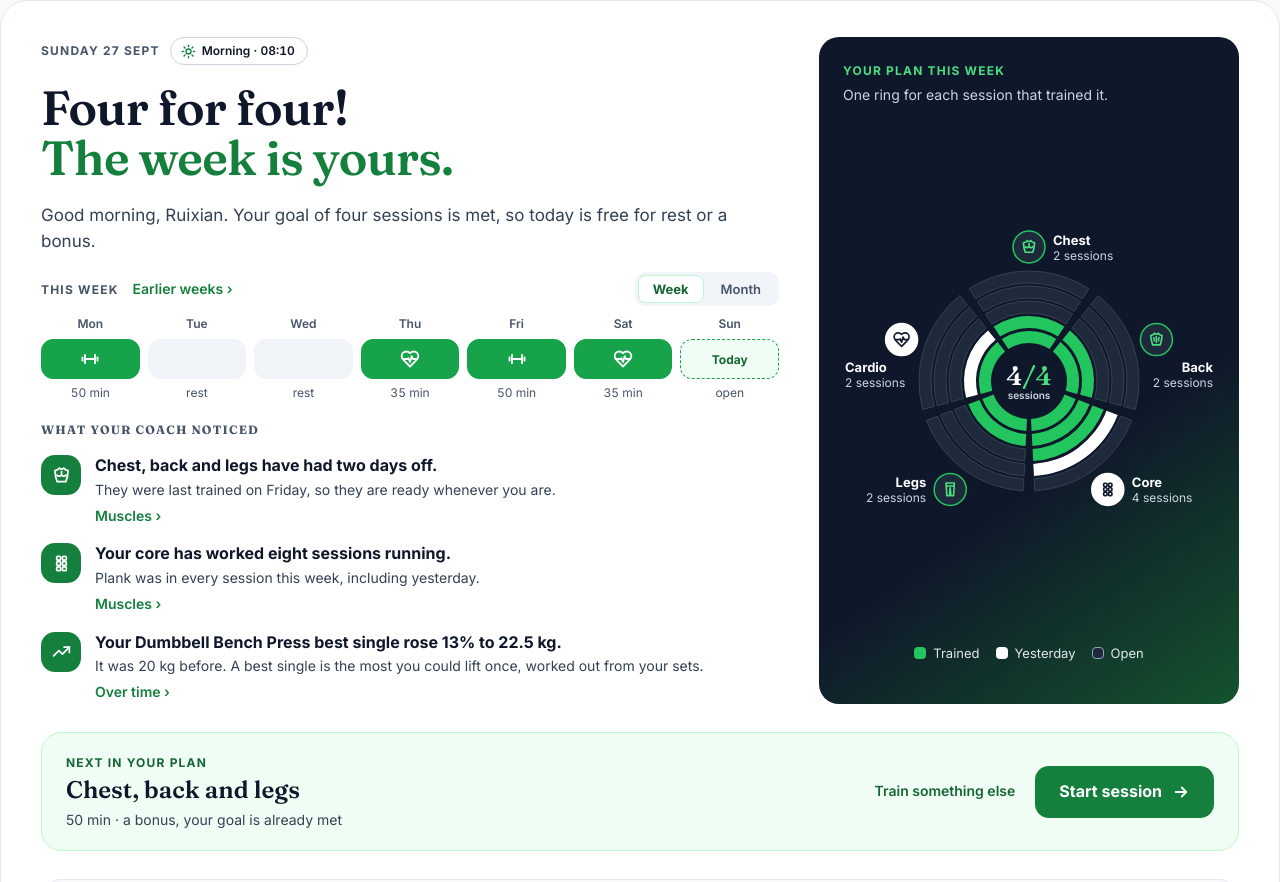
Test case: CoachBriefComponent › week and month switch › brings the strip, the observations and the wheel back when it switches to the week
What coordinates should you click on to do the following:
click the button with class "switch-tab" showing "Month"
I would click on:
 (741, 290)
Its box is top-left (706, 276), bottom-right (776, 304).
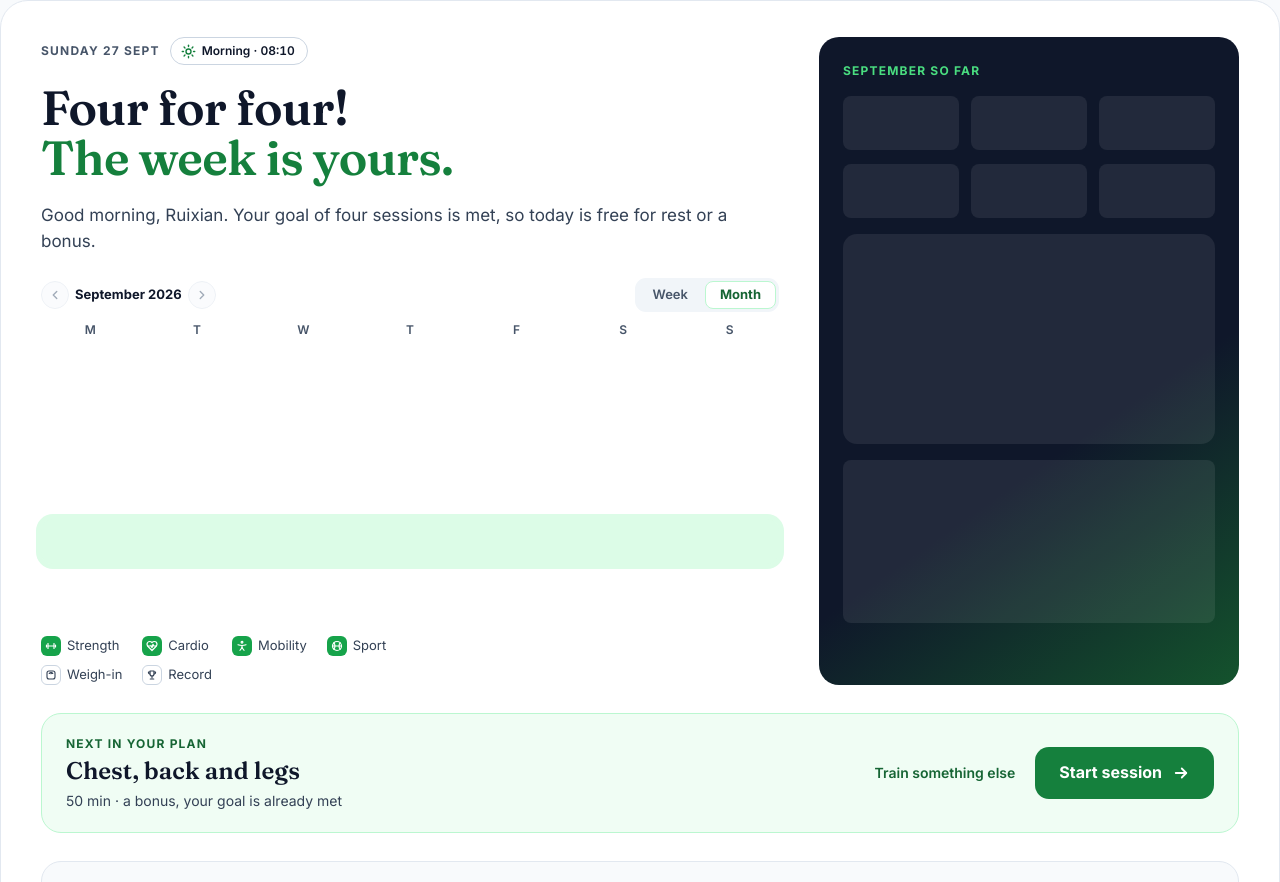
What coordinates should you click on to do the following:
click the button with class "switch-tab" showing "Week"
I would click on:
 (670, 295)
Its box is top-left (638, 281), bottom-right (703, 309).
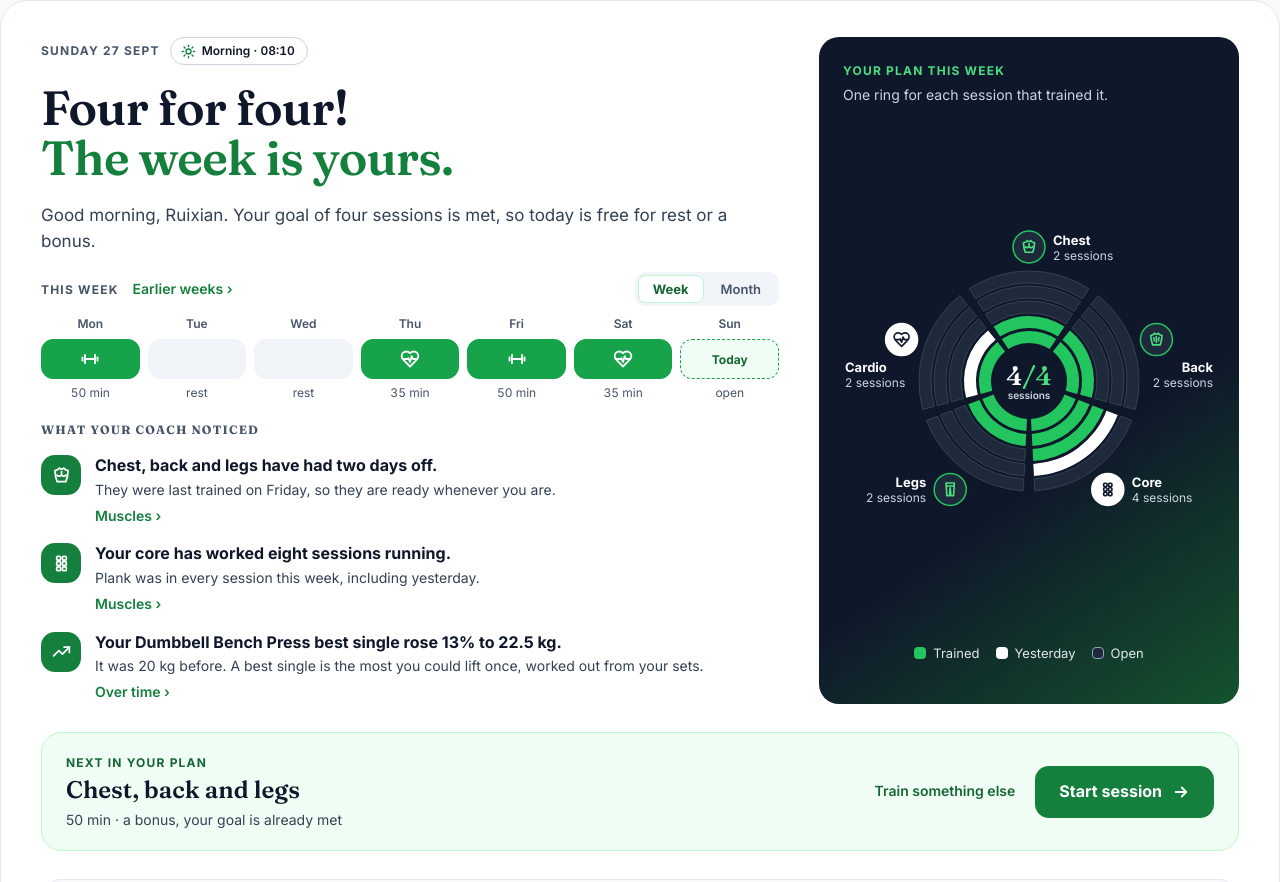
Expected: the text with class "week-title" reads "This week", top-left (41, 282), bottom-right (118, 297)
Expected: the number of elements with class "day-col" is 7
Expected: the element that starts with "What your coach noticed" is shown, top-left (41, 420), bottom-right (779, 704)
